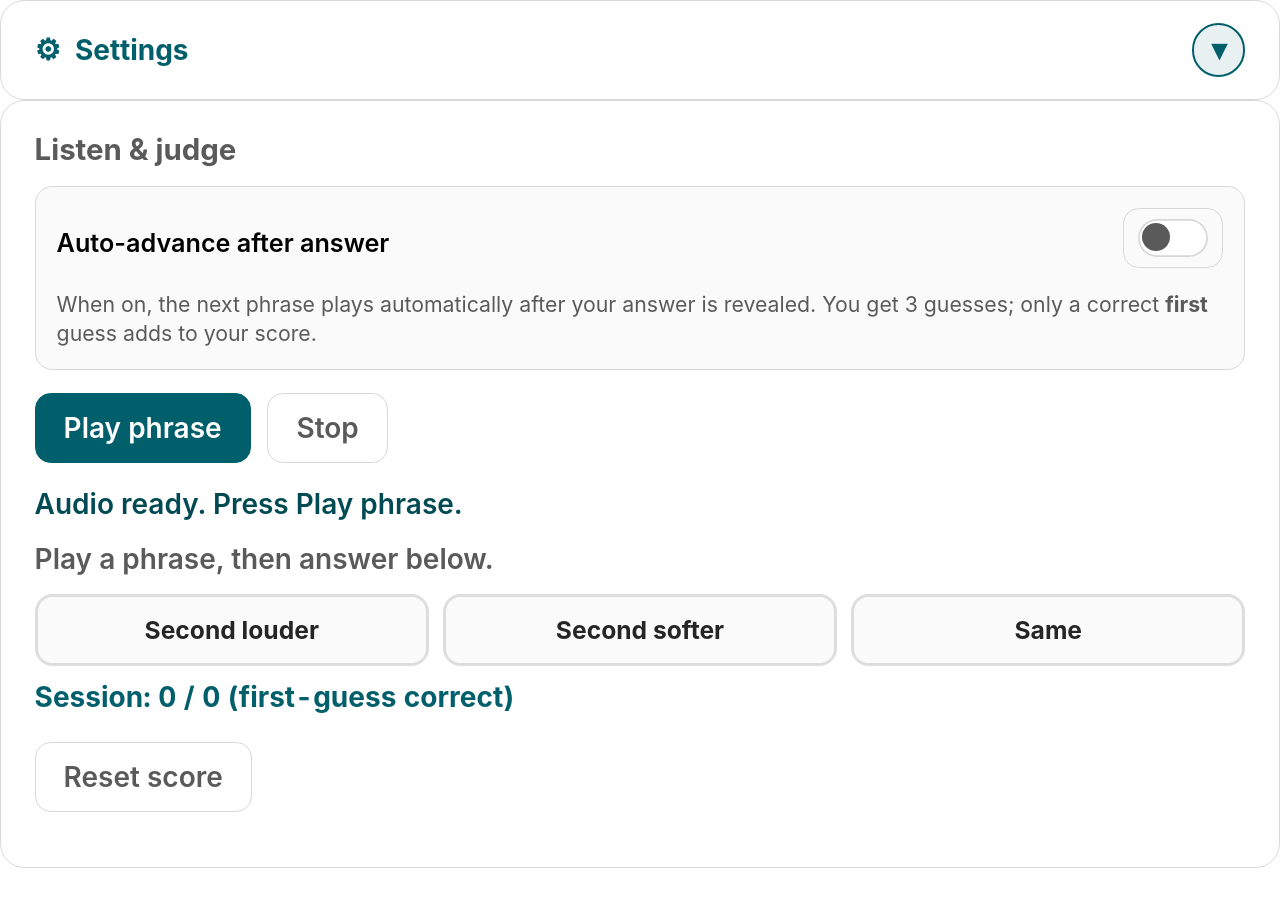
Scenario: DynamicsArticulationTopic — dynamics mode first-guess scoring (docs/05-topics/12 §7) › counts a wrong-then-right answer as total+1, correct+0 (only first guess scores)
Click the button "Play phrase" at (143, 428), box [35,393,251,463]
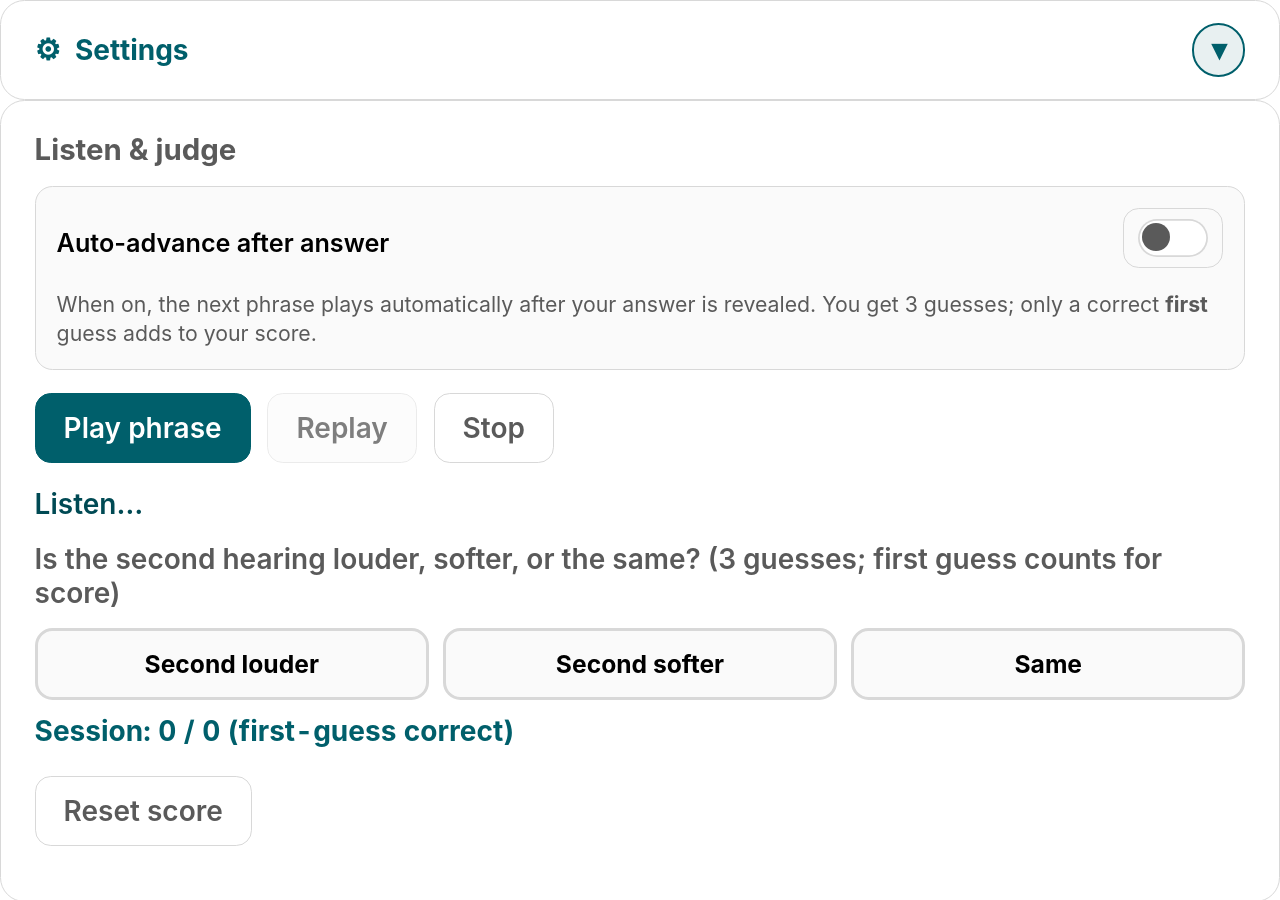
Click the button "Second louder" at (232, 664), box [35,628,429,700]
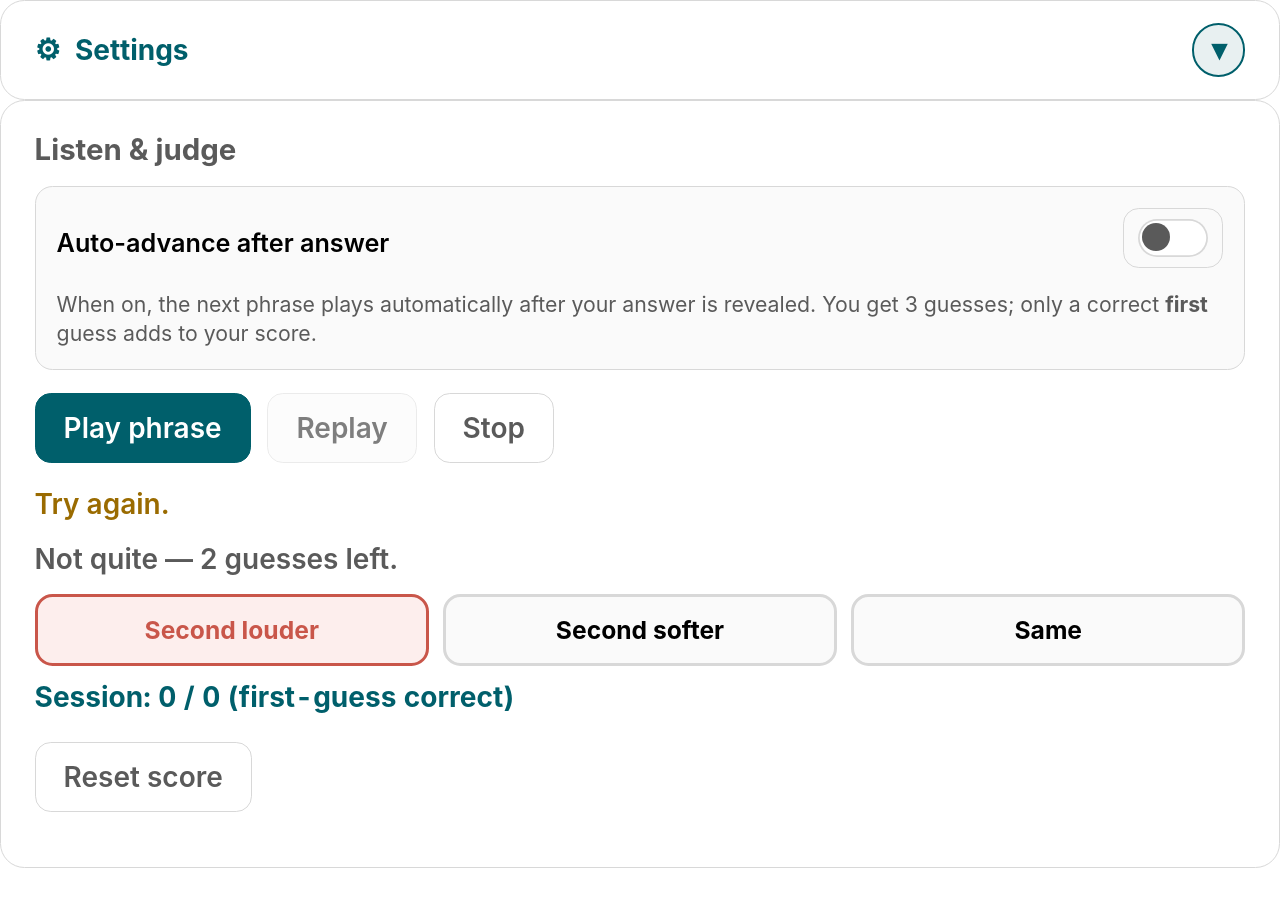
Click the button "Second softer" at (640, 630), box [443,594,837,666]
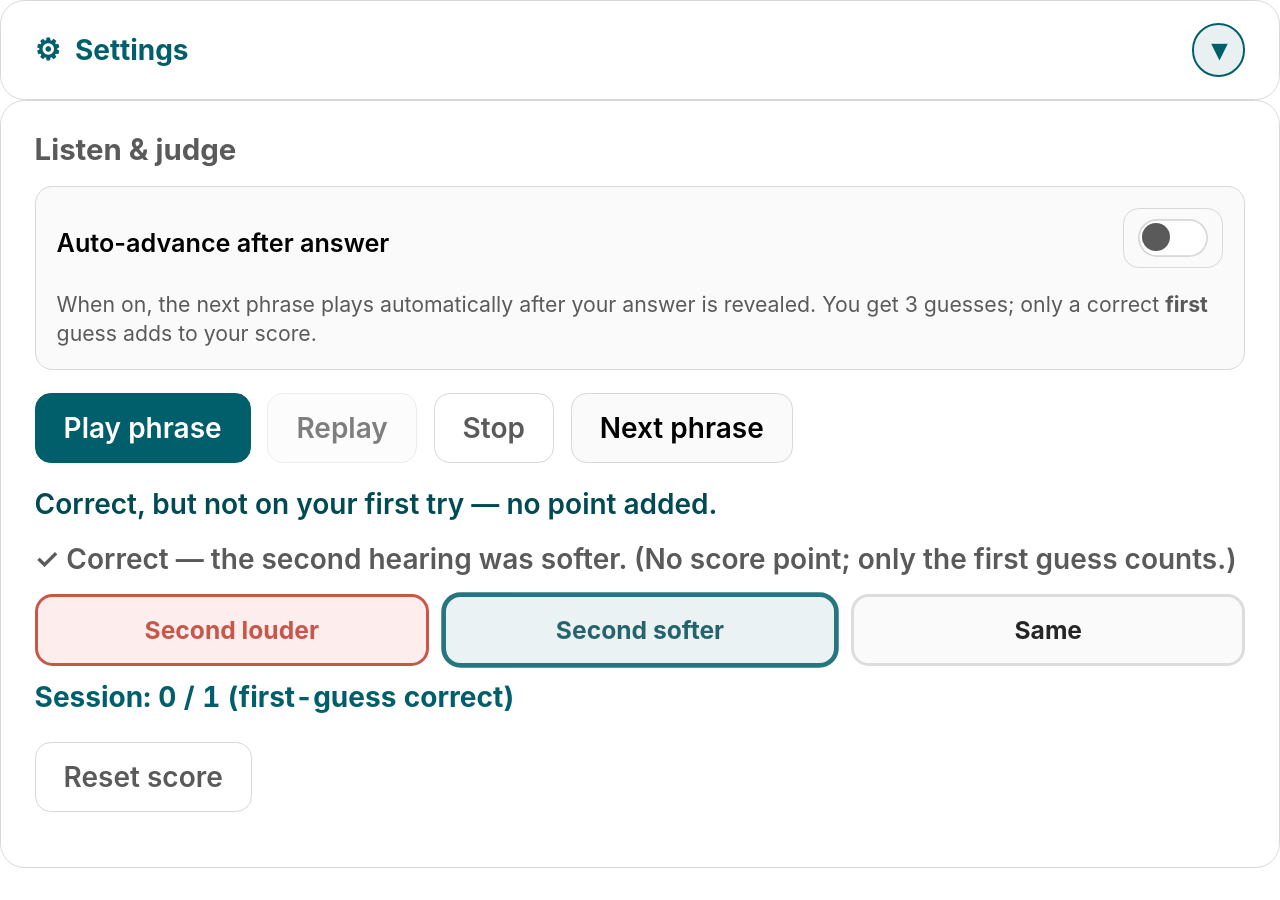
Check: the text "Session: 0 / 1 (first-guess correct)" is shown, box [35,680,514,714]
